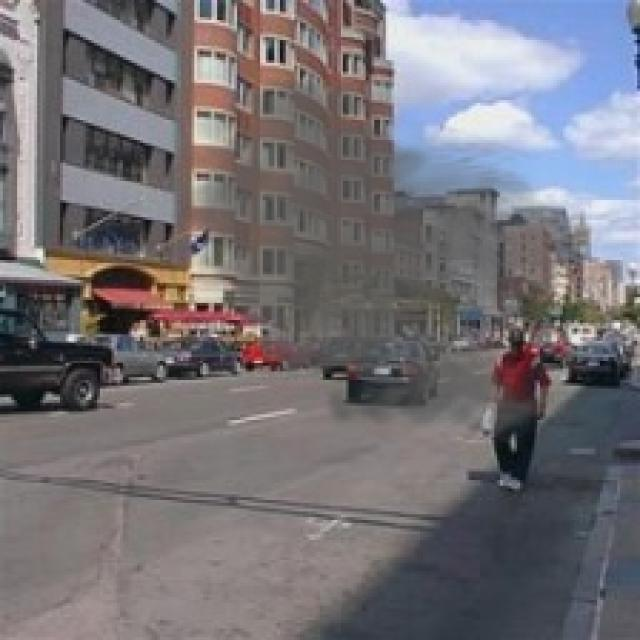smoke: (160, 71, 586, 448)
